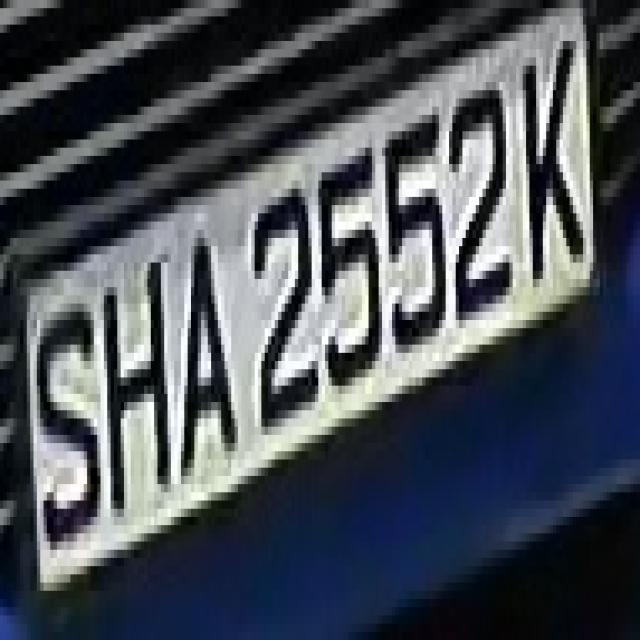2: (242, 172, 328, 427), (439, 57, 516, 320)
5: (366, 90, 442, 345), (315, 132, 382, 370)
A: (164, 197, 245, 509)
H: (94, 229, 171, 542)
K: (516, 25, 593, 312)
S: (30, 271, 107, 558)
